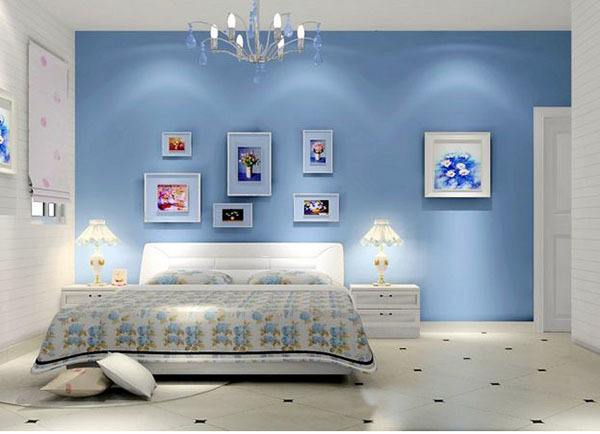床: (49, 282, 366, 401)
枕头: (53, 352, 156, 406), (142, 265, 341, 289)
灯: (181, 7, 327, 67), (359, 217, 407, 291), (72, 214, 115, 287)
